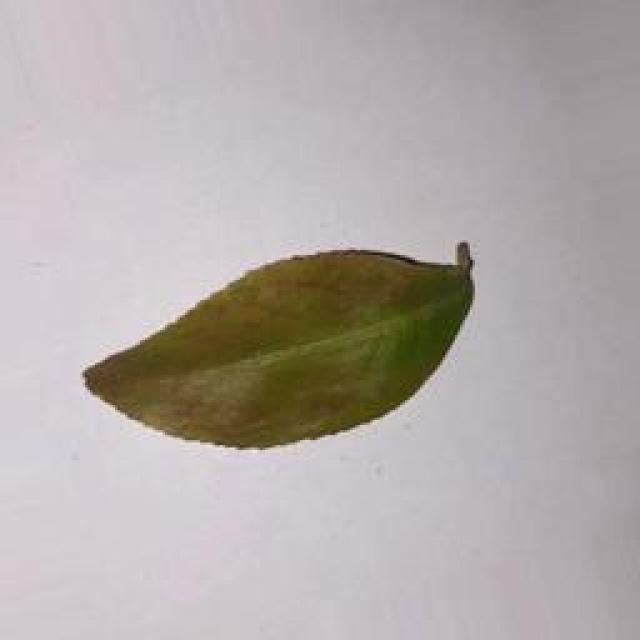Red Leaf Spot: (76, 241, 520, 452)
